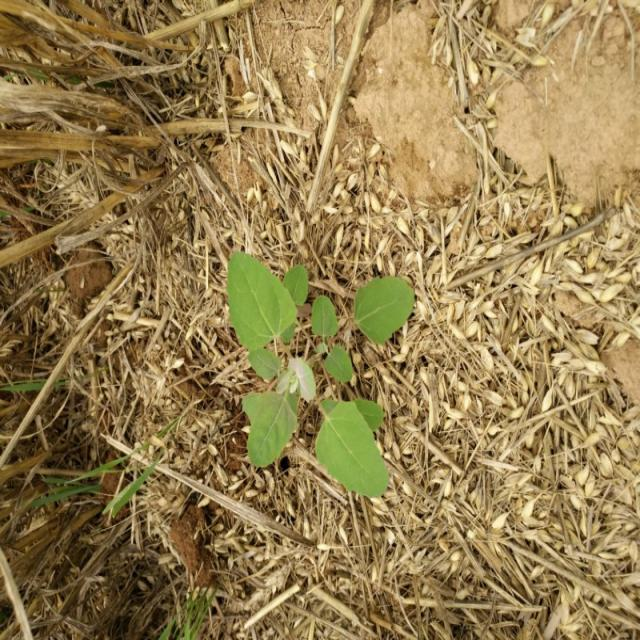ca: (228, 251, 404, 499)
